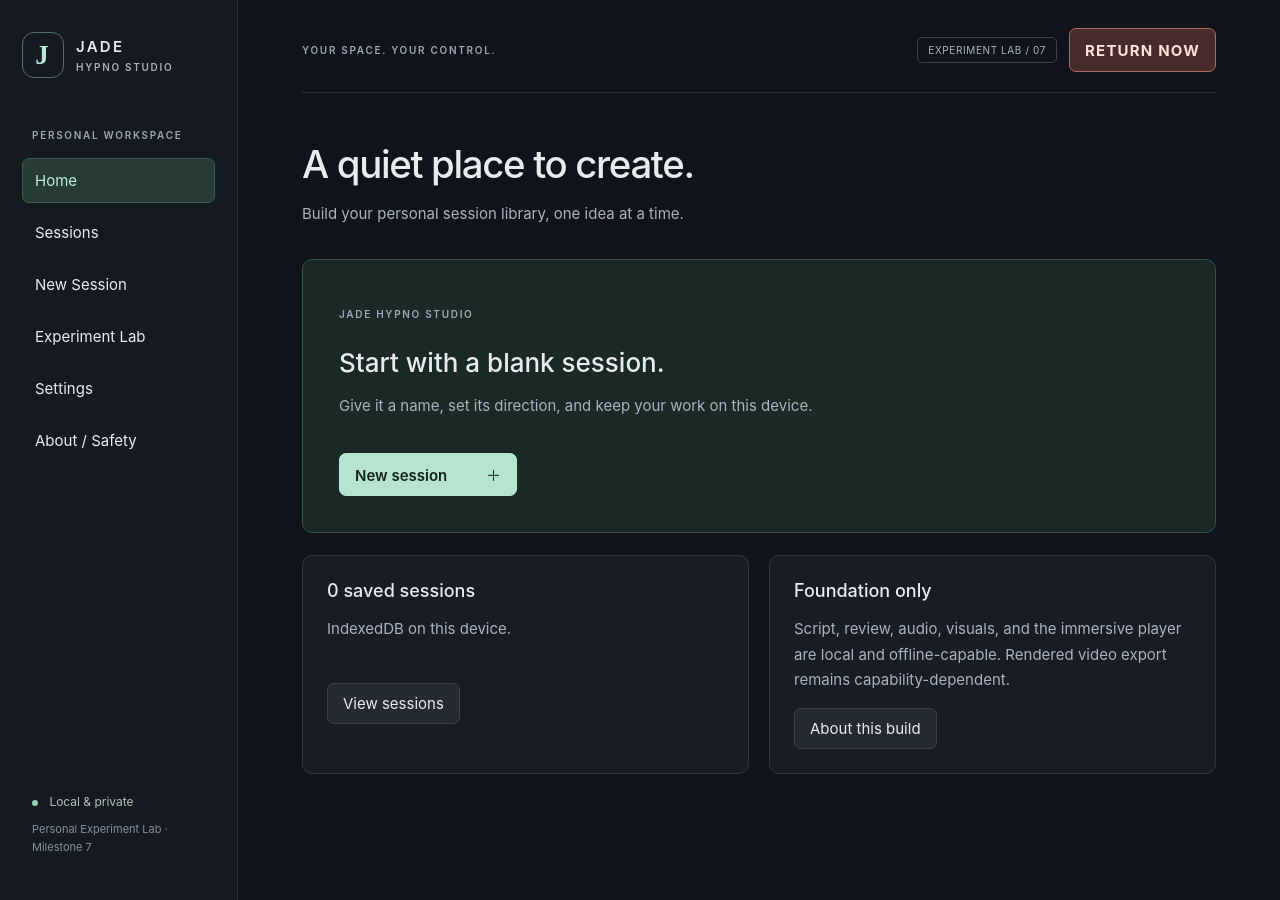
Scenario: foundation views › requires confirmation before moving a session to Trash
The image size is (1280, 900).
Check: the button "New session ＋" is enabled, box [339,453,517,496]
Step 1. Click the button "Sessions" → x=118, y=232, box [22,210,215,255]
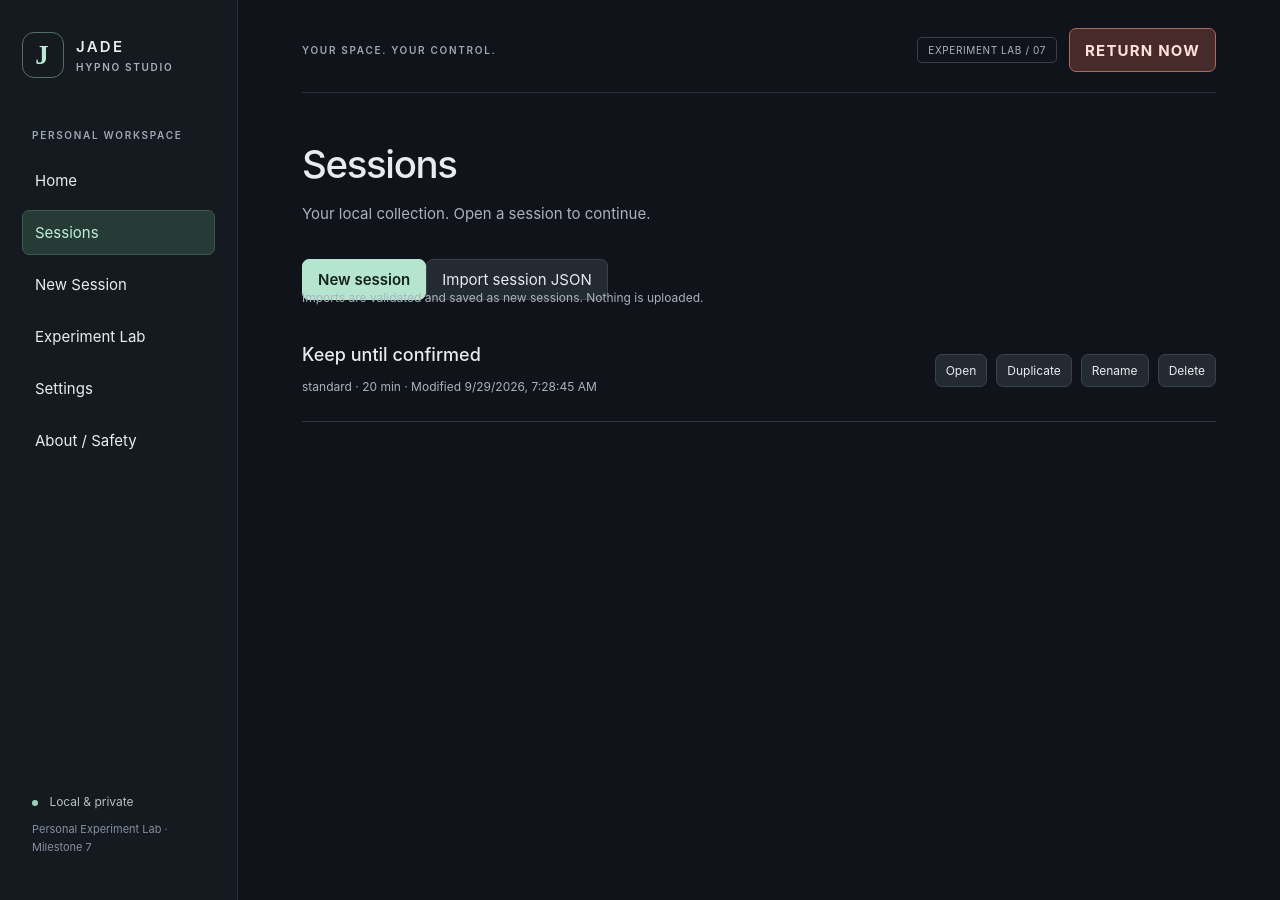
Step 2. Click the button named "Delete Keep until confirmed" → x=1187, y=371, box [1158,354,1216,387]
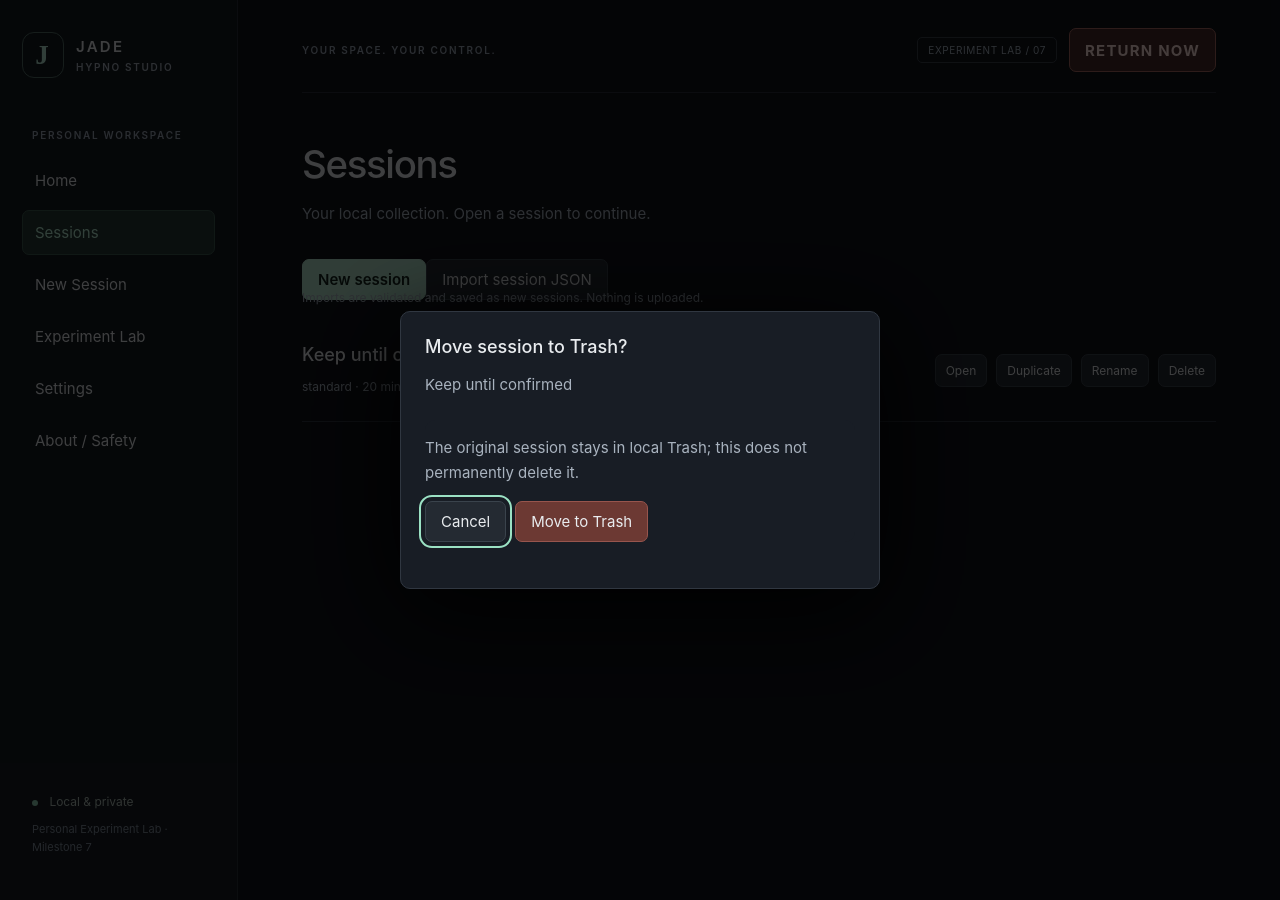
Step 3. Click the button "Cancel" → x=466, y=521, box [425,501,506,542]
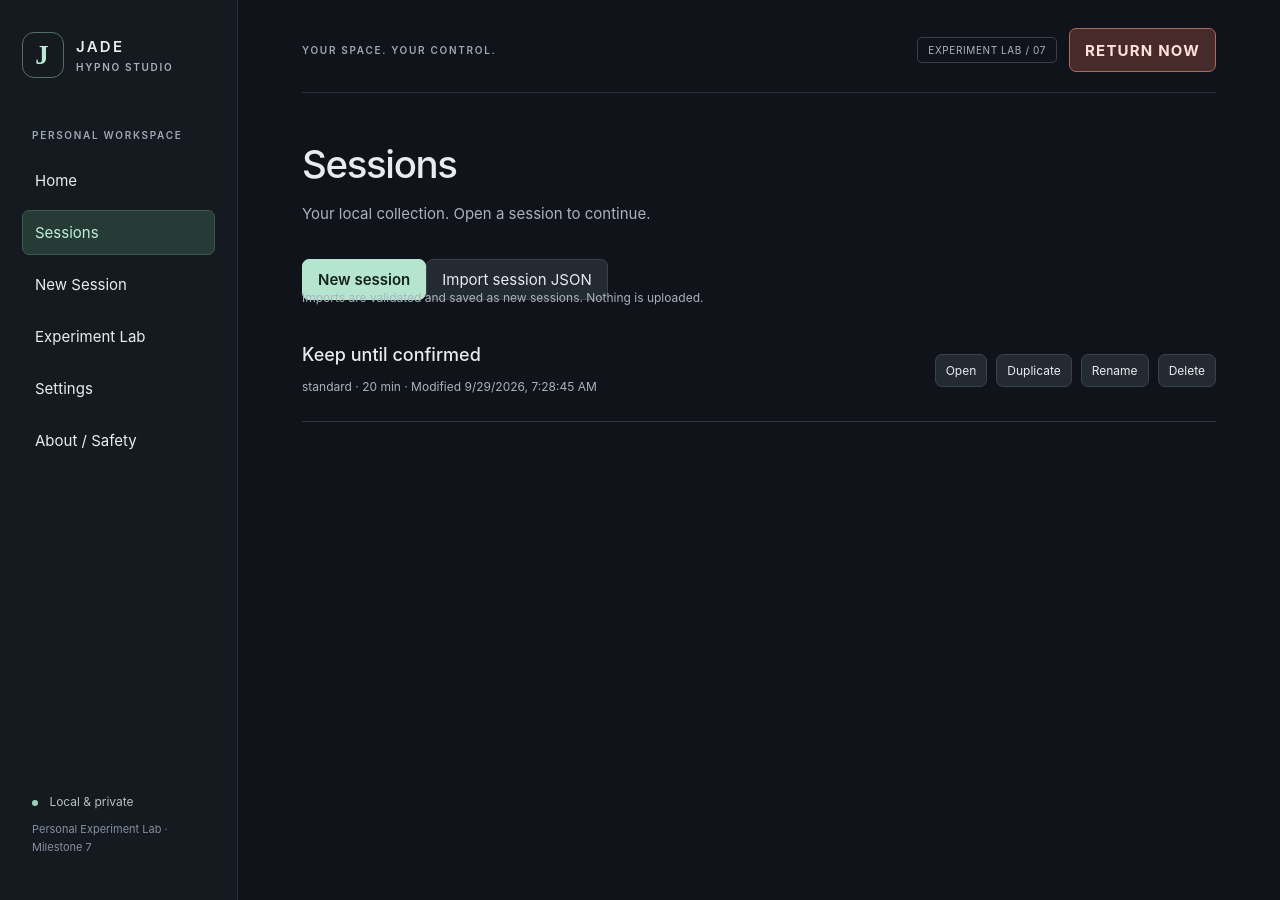
Step 4. Click the button named "Delete Keep until confirmed" → x=1187, y=371, box [1158,354,1216,387]
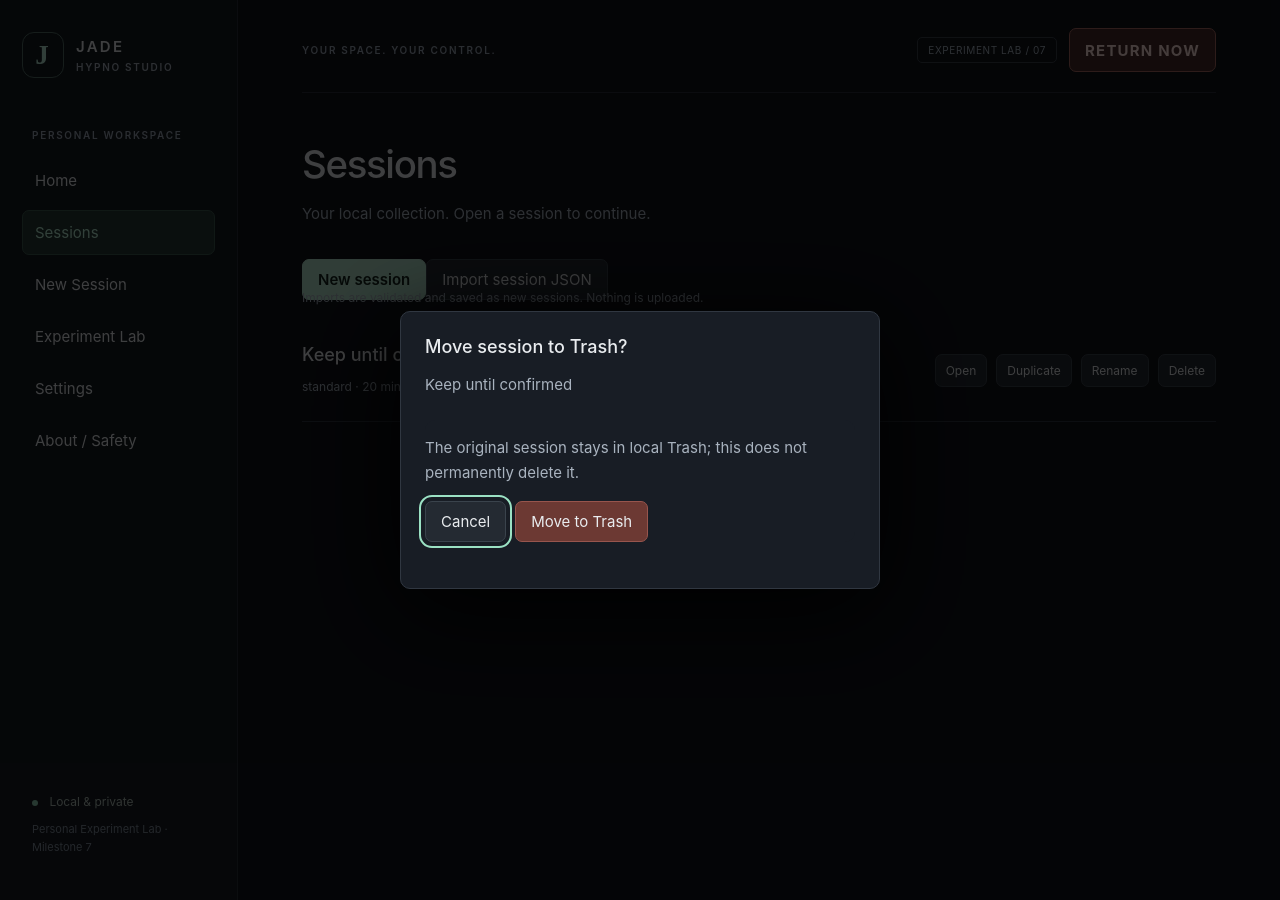
Step 5. Click the button "Move to Trash" → x=582, y=521, box [515,501,648,542]
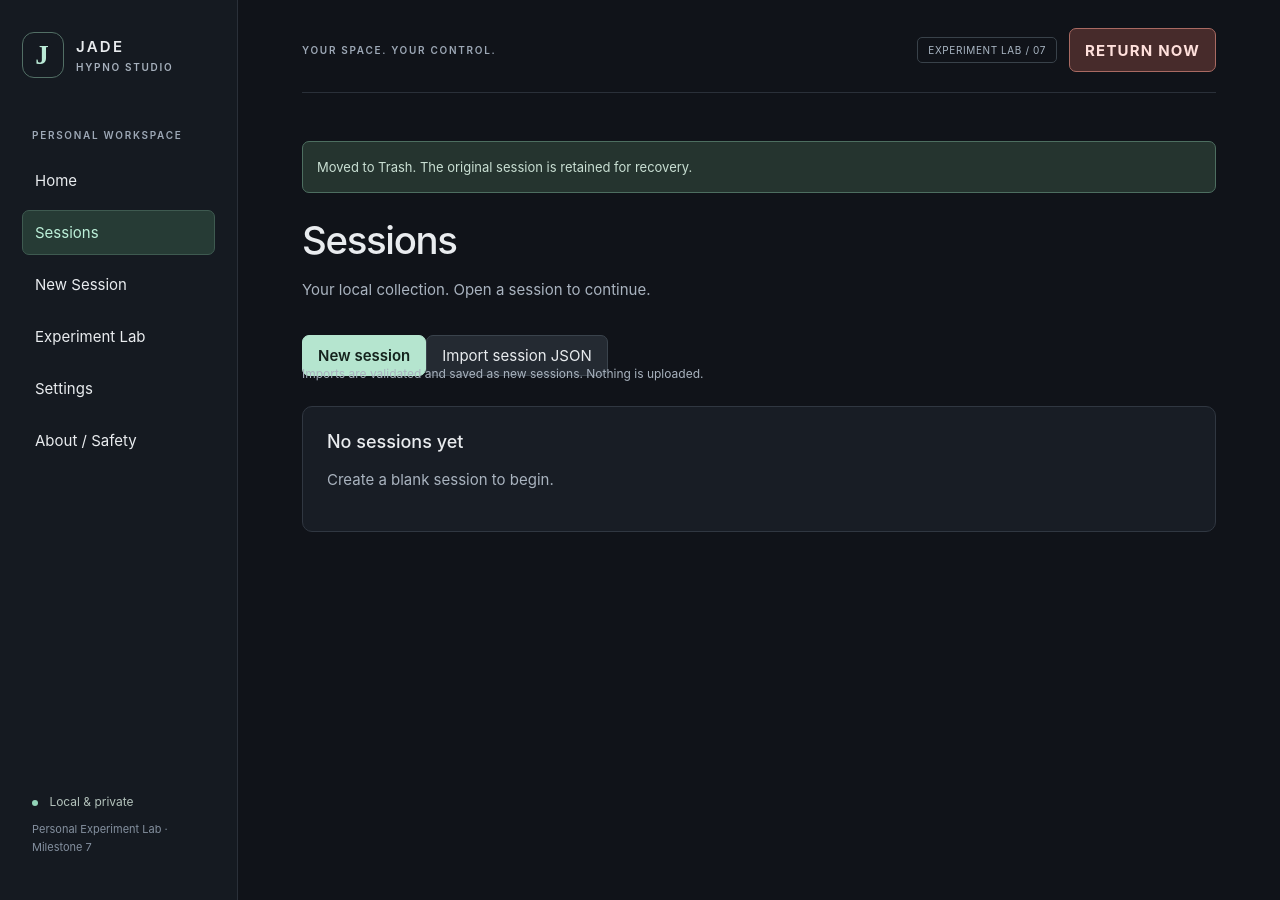
Check: the heading "No sessions yet" is shown, box [327,431,463,452]
